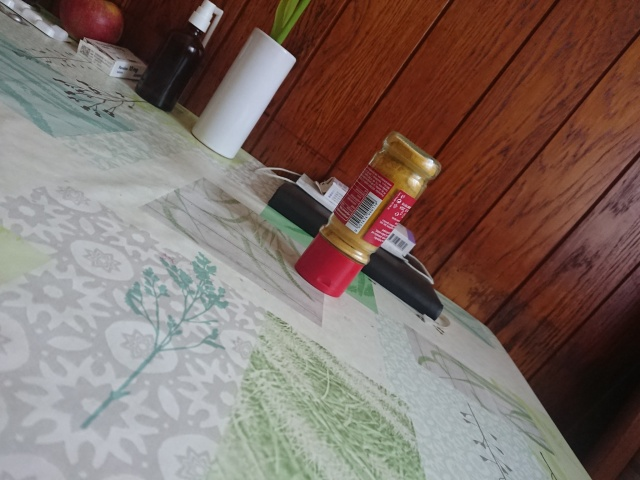Kotanyi Curry Spices Mix 70g: (292, 129, 444, 300)
